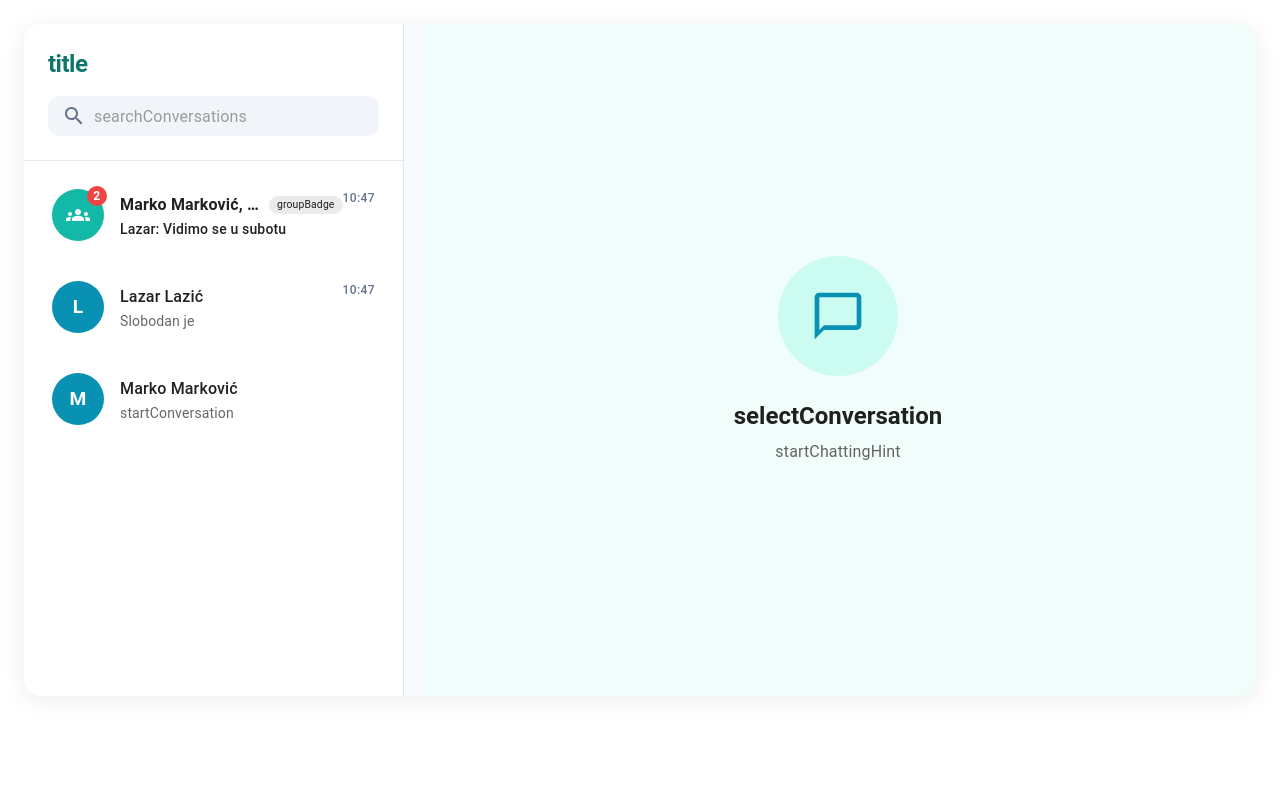
Test case: ChatPage - shared conversations › opens the shared conversation when it is chosen, replacing the one-to-one view
Click the heading "Marko Marković, Lazar Lazić" at (190, 205), box [120,191,261,219]
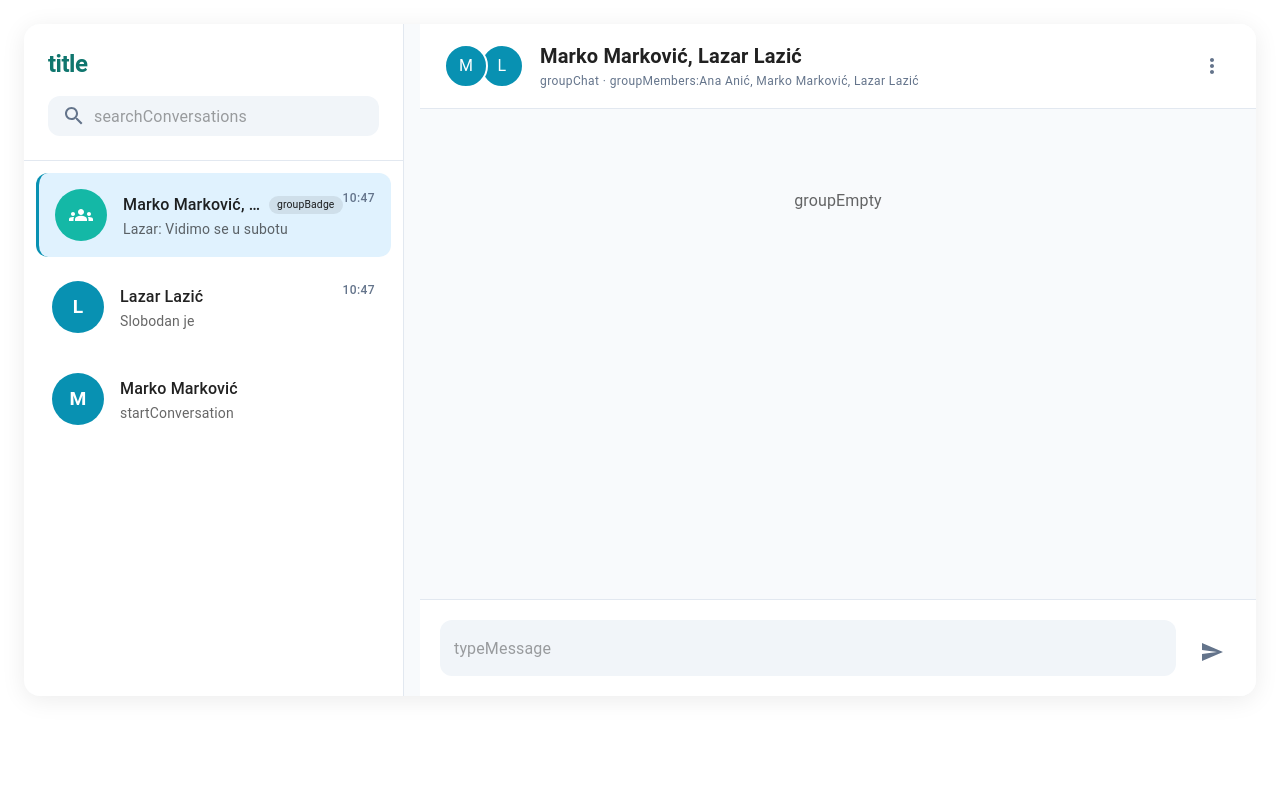
Now the text "groupMembers:Ana Anić, Marko Marković, Lazar Lazić" is shown, box [610,74,919,88]
Now the text box with placeholder "typeMessage" is shown, box [454,636,1162,660]
